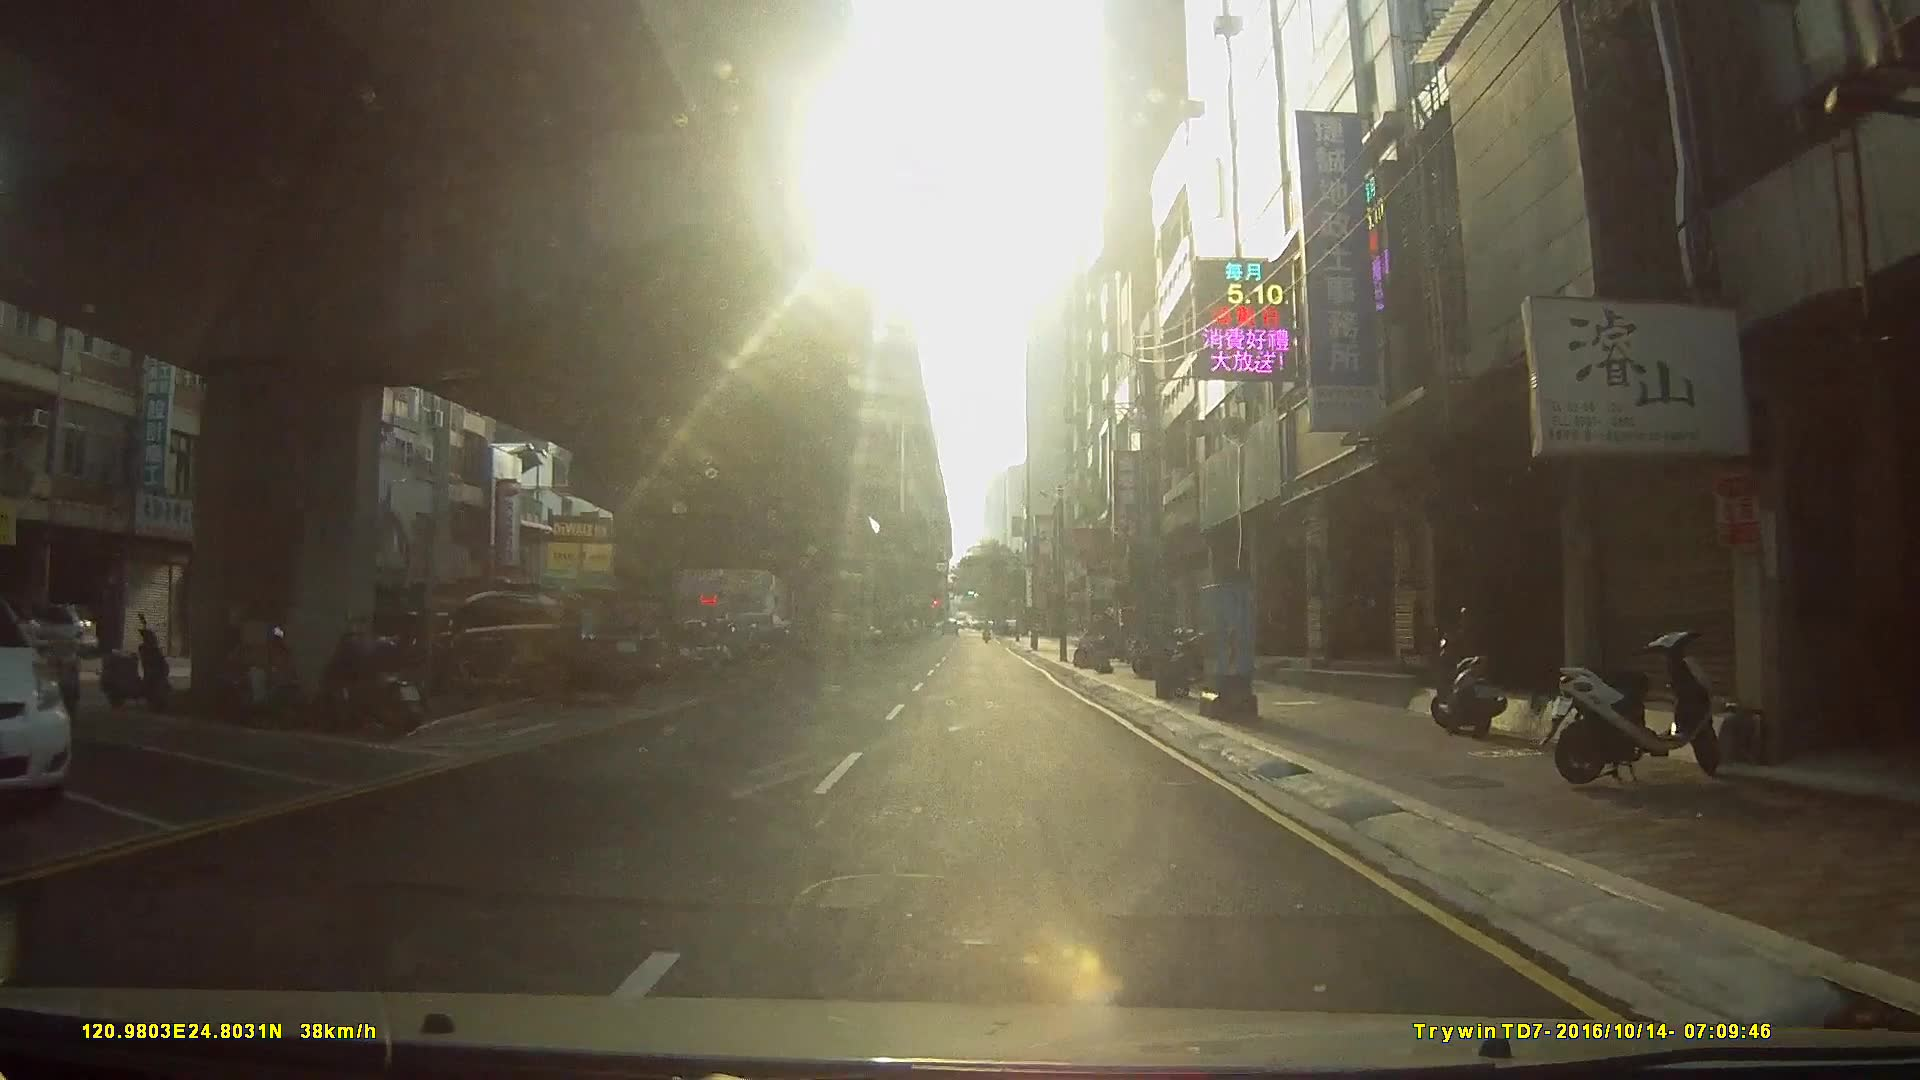vehicle: (413, 585, 665, 703), (0, 593, 73, 808), (604, 618, 728, 687), (21, 601, 98, 655)
